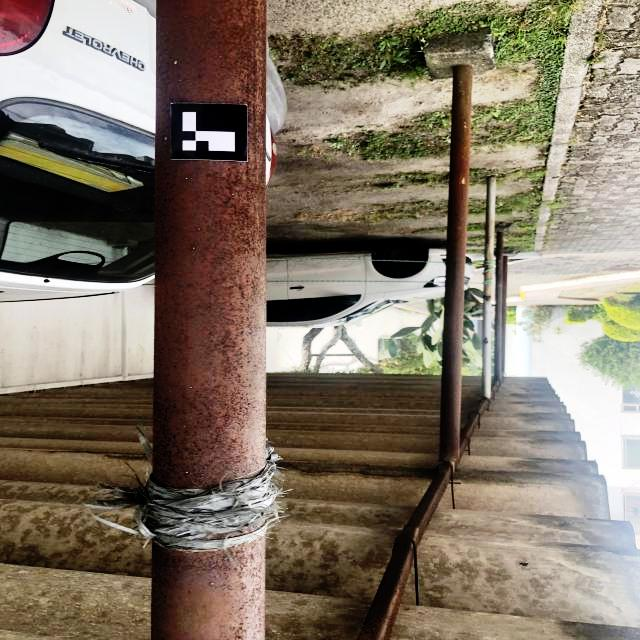Corrosion: (151, 0, 267, 489), (357, 378, 502, 640), (438, 64, 474, 462), (151, 533, 266, 640), (494, 232, 508, 383), (228, 520, 266, 538), (200, 534, 225, 540), (484, 270, 492, 277), (487, 250, 492, 261), (482, 295, 491, 301), (484, 265, 492, 270), (483, 337, 488, 344), (486, 235, 489, 244), (485, 257, 487, 260), (485, 263, 492, 263)
